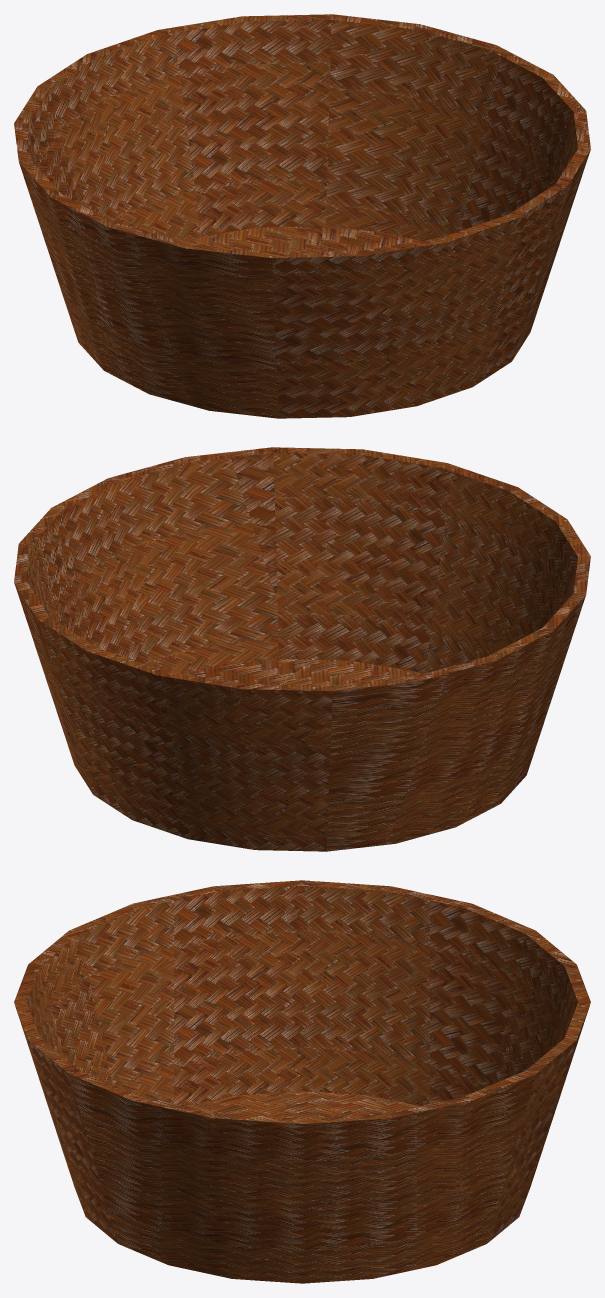
File: basket.fbx
3 renders of one model, top to bottom at view 1: azimuth 30°, elevation 25°; view 2: azimuth 150°, elevation 25°; view 3: azimuth 270°, elevation 25°, orthographic.
Parts seen in each view (by area): view 1: pCylinder1; view 2: pCylinder1; view 3: pCylinder1.
Part boxes in pixels (x1=…): pCylinder1: x1=14, y1=14, x2=590, y2=418; pCylinder1: x1=14, y1=447, x2=590, y2=851; pCylinder1: x1=14, y1=880, x2=590, y2=1283.
Bounding box in the file's own units: 6.66 × 2.36 × 6.66.
1 material, 1 textured.
